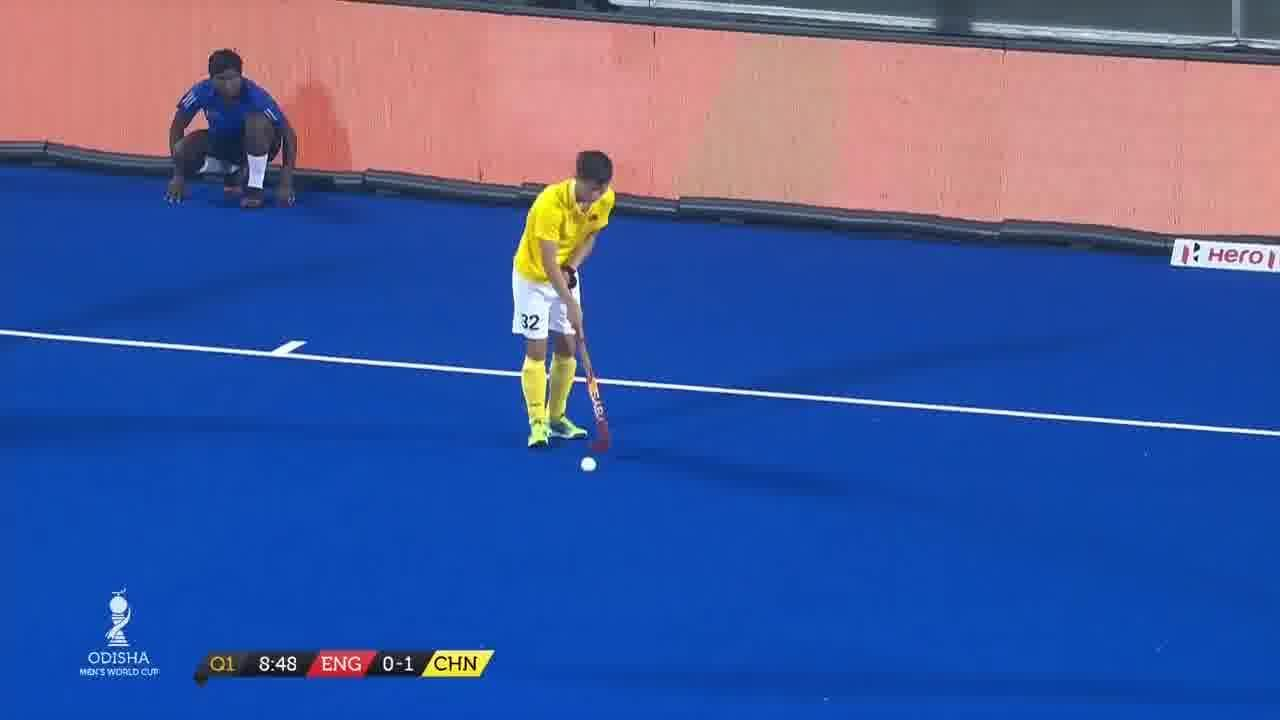ball: (576, 452, 602, 480)
